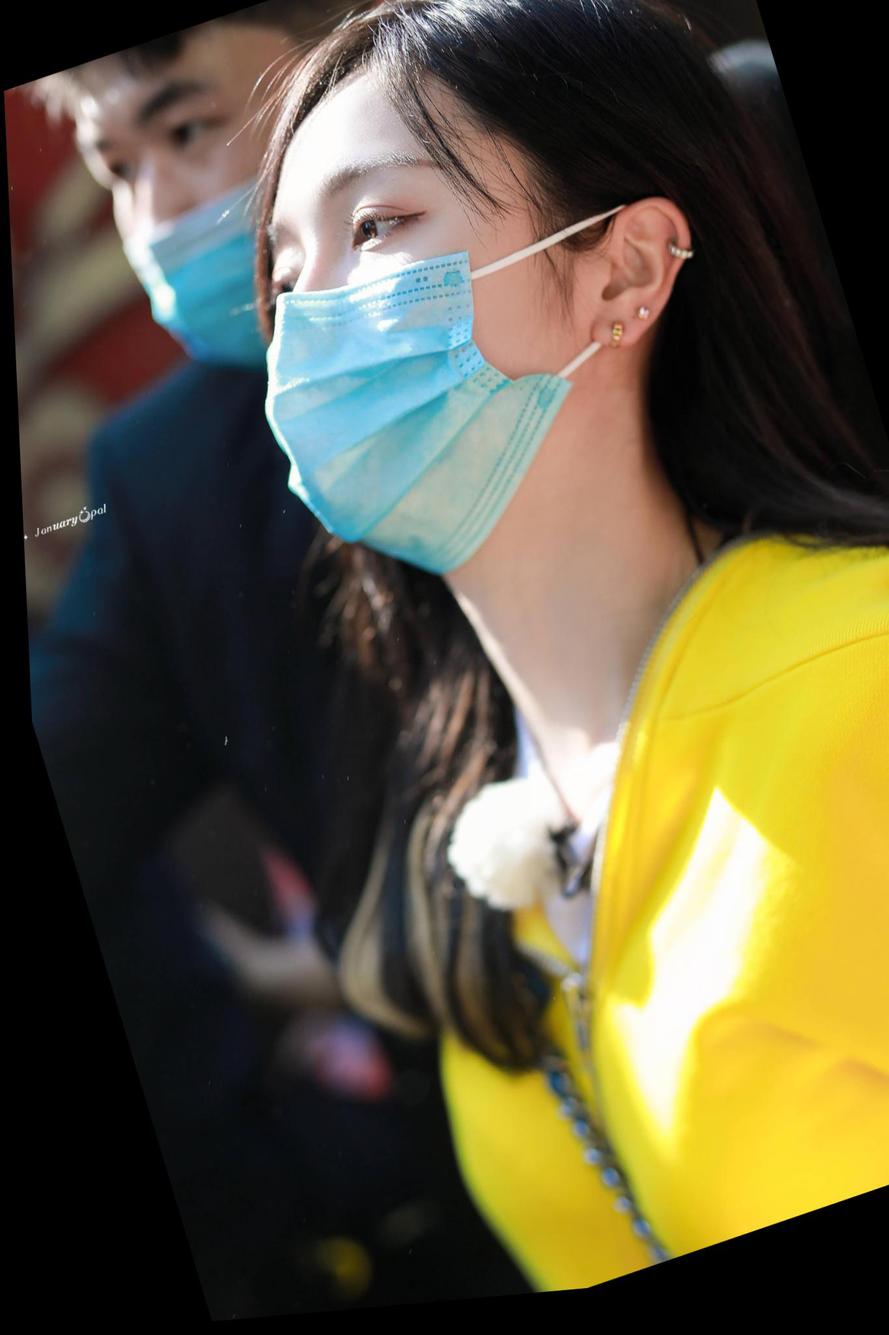OK: (192, 72, 582, 602)
WRONG: (62, 48, 320, 407)
